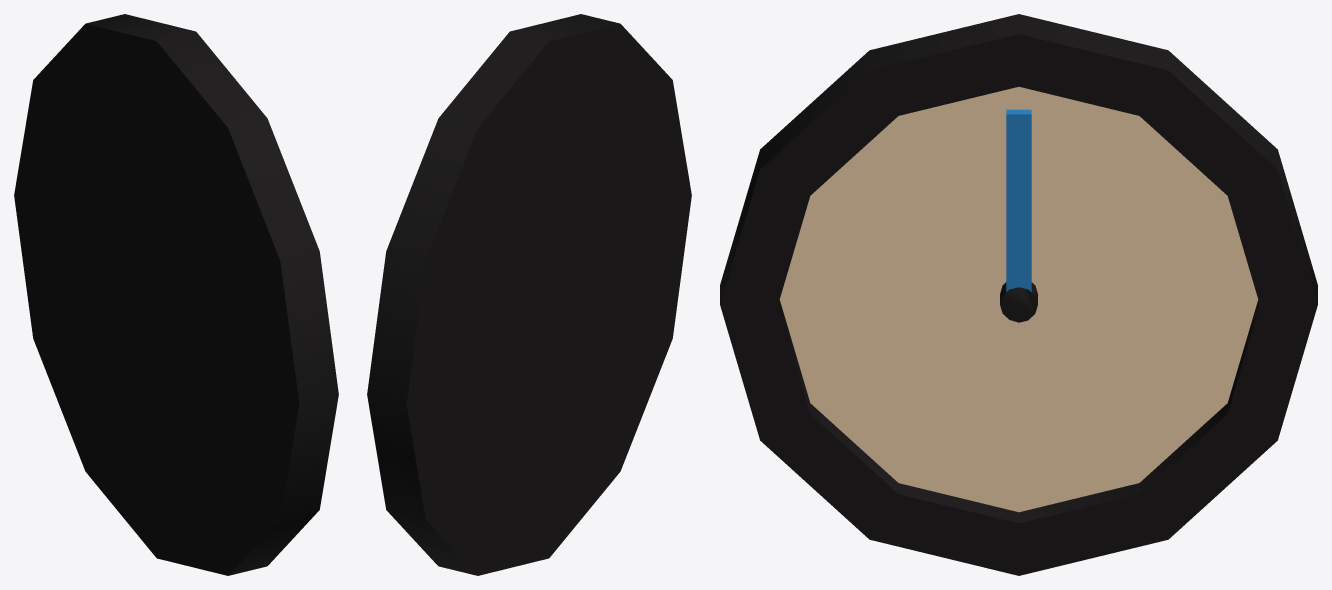
File: Clock.fbx
3 views of the same model, side by side, from view 1: azimuth 30°, elevation 25°; view 2: azimuth 150°, elevation 25°; view 3: azimuth 270°, elevation 25° (orthographic). The views are drawn at different scales.
Visible parts, largest first — view 1: Clock; view 2: Clock; view 3: Clock, Minute.
Boxes of the visible parts, left/top/right/bottom form: Clock: left=14, top=14, right=338, bottom=575; Clock: left=367, top=14, right=691, bottom=575; Clock: left=720, top=14, right=1317, bottom=575; Minute: left=1006, top=109, right=1031, bottom=291.
Size of the model in its own units: 64.25 by 5.27 by 64.25.
